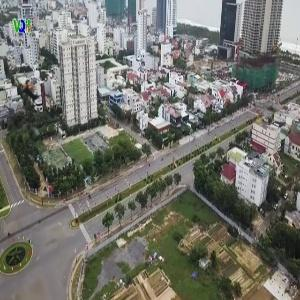drone: (6, 65, 64, 123)
